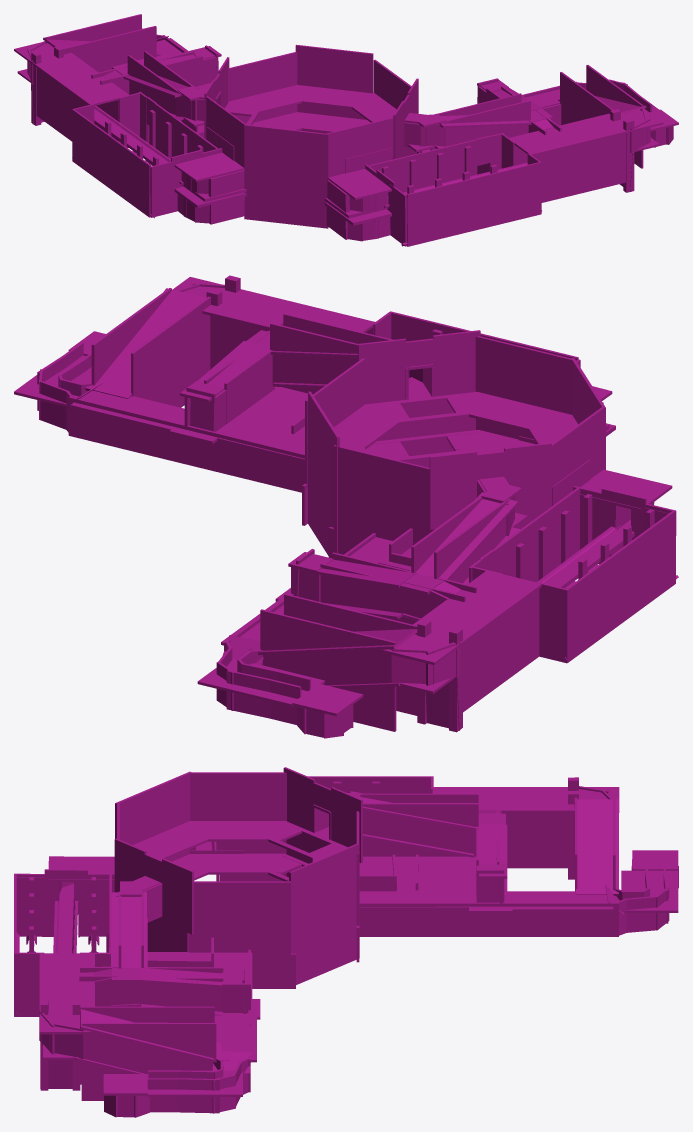
3 renders of one model, top to bottom at view 1: azimuth 30°, elevation 25°; view 2: azimuth 150°, elevation 25°; view 3: azimuth 270°, elevation 25°, orthographic. The views are drawn at different scales.
Parts seen in each view (by area): view 1: Box421, Box522, Box318, Box463, Box424, Box563, Box423, Box364, Box523, Box247, Box620, Box601 (+44 smaller); view 2: Box450, Box244, Box318, Box423, Box451, Box620, Box364, Box259, Box599, Box556, Box563, Box424 (+49 smaller); view 3: Box246, Box424, Box618, Box448, Box402, Box357, Box425, Box363, Box258, Box563, Box421, Box364 (+49 smaller).
Part boxes in pixels (left/top/right/bottom): Box421: left=244, top=124, right=328, bottom=228; Box522: left=406, top=161, right=541, bottom=246; Box318: left=72, top=109, right=151, bottom=217; Box463: left=533, top=133, right=625, bottom=202; Box424: left=295, top=44, right=373, bottom=133; Box563: left=508, top=109, right=663, bottom=155; Box423: left=228, top=52, right=297, bottom=123; Box364: left=14, top=42, right=129, bottom=105; Box523: left=368, top=139, right=477, bottom=192; Box247: left=63, top=26, right=156, bottom=72; Box620: left=327, top=117, right=393, bottom=177; Box601: left=440, top=100, right=530, bottom=145; Box450: left=68, top=396, right=304, bottom=492; Box244: left=260, top=609, right=396, bottom=731; Box318: left=565, top=510, right=675, bottom=662; Box423: left=333, top=445, right=434, bottom=545; Box451: left=131, top=296, right=210, bottom=407; Box620: left=475, top=336, right=572, bottom=414; Box364: left=379, top=570, right=541, bottom=665; Box259: left=463, top=589, right=539, bottom=712; Box599: left=270, top=323, right=358, bottom=394; Box556: left=209, top=386, right=307, bottom=461; Box563: left=173, top=277, right=375, bottom=332; Box424: left=308, top=391, right=339, bottom=555; Box246: left=359, top=902, right=618, bottom=936; Box424: left=289, top=843, right=359, bottom=984; Box618: left=188, top=881, right=290, bottom=957; Box448: left=81, top=1022, right=216, bottom=1100; Box402: left=363, top=803, right=478, bottom=856; Box357: left=359, top=856, right=476, bottom=909; Box425: left=190, top=772, right=286, bottom=821; Box363: left=576, top=799, right=618, bottom=895; Box258: left=501, top=813, right=574, bottom=868; Box563: left=39, top=953, right=94, bottom=1034; Box421: left=115, top=771, right=191, bottom=861; Box364: left=432, top=787, right=619, bottom=812.
Size of the model in its own units: 235 by 235 by 49.67.
